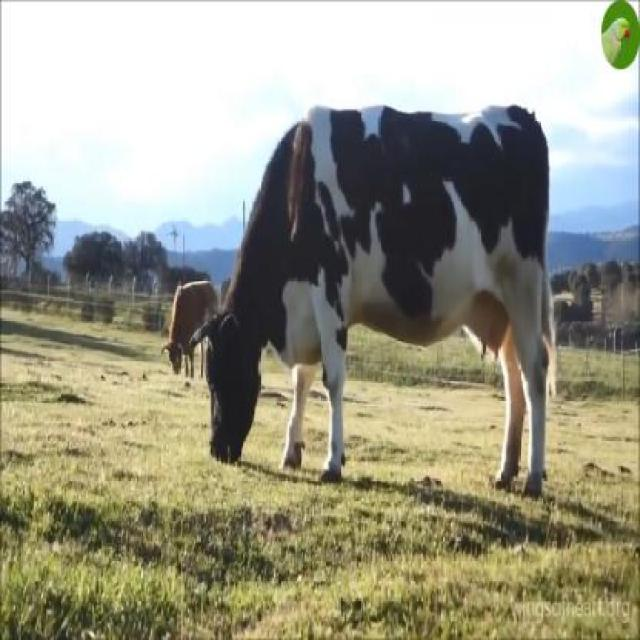Cow: (203, 104, 552, 476)
